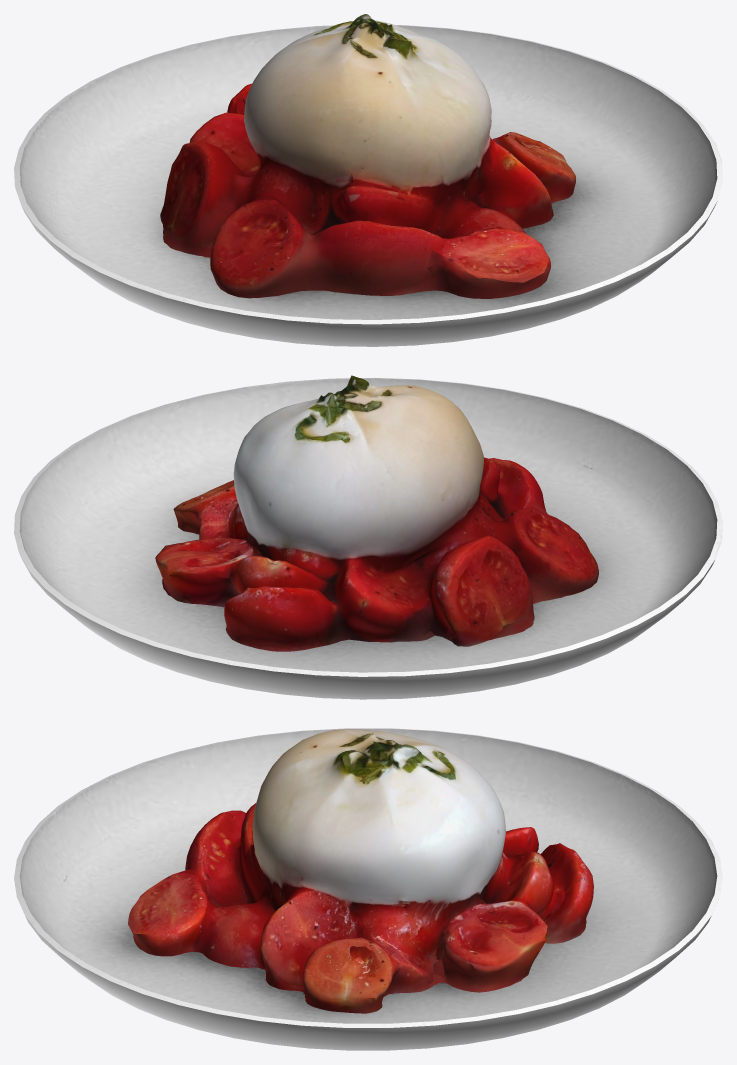
Rendered from Plato_04.glb.
3 views of the same model, one above another, from view 1: azimuth 30°, elevation 25°; view 2: azimuth 150°, elevation 25°; view 3: azimuth 270°, elevation 25° (orthographic).
Visible parts, largest first — view 1: Greek Flat Plate White, Burrata Retopo Split; view 2: Greek Flat Plate White, Burrata Retopo Split; view 3: Greek Flat Plate White, Burrata Retopo Split.
Part boxes in pixels (bbox=[...]): Greek Flat Plate White: bbox=[14, 25, 722, 346]; Burrata Retopo Split: bbox=[160, 14, 575, 298]; Greek Flat Plate White: bbox=[14, 378, 722, 699]; Burrata Retopo Split: bbox=[155, 375, 598, 651]; Greek Flat Plate White: bbox=[14, 728, 722, 1050]; Burrata Retopo Split: bbox=[128, 729, 593, 1013].
Bounding box in the file's own units: 0.26 × 0.0775 × 0.26.
2 materials, 2 textured.
